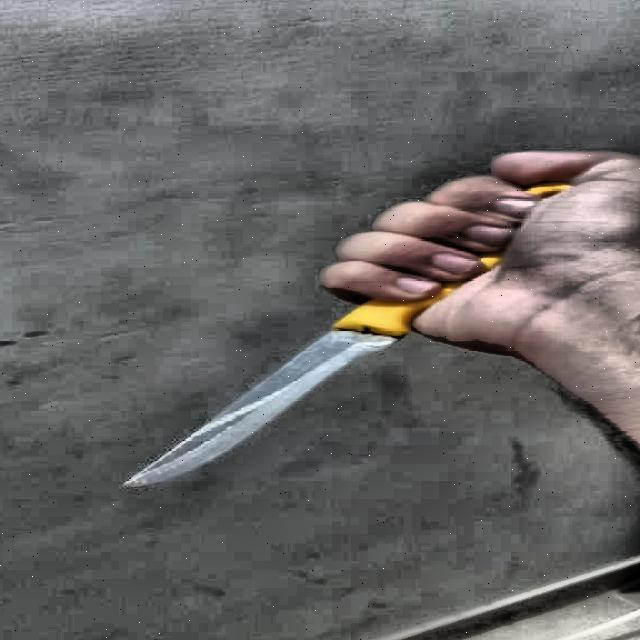knife: (122, 184, 570, 487)
